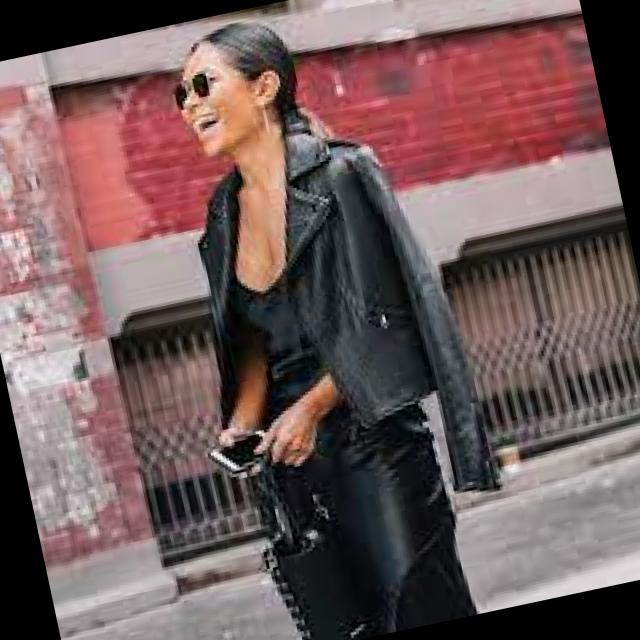Jacket: (106, 82, 524, 580)
